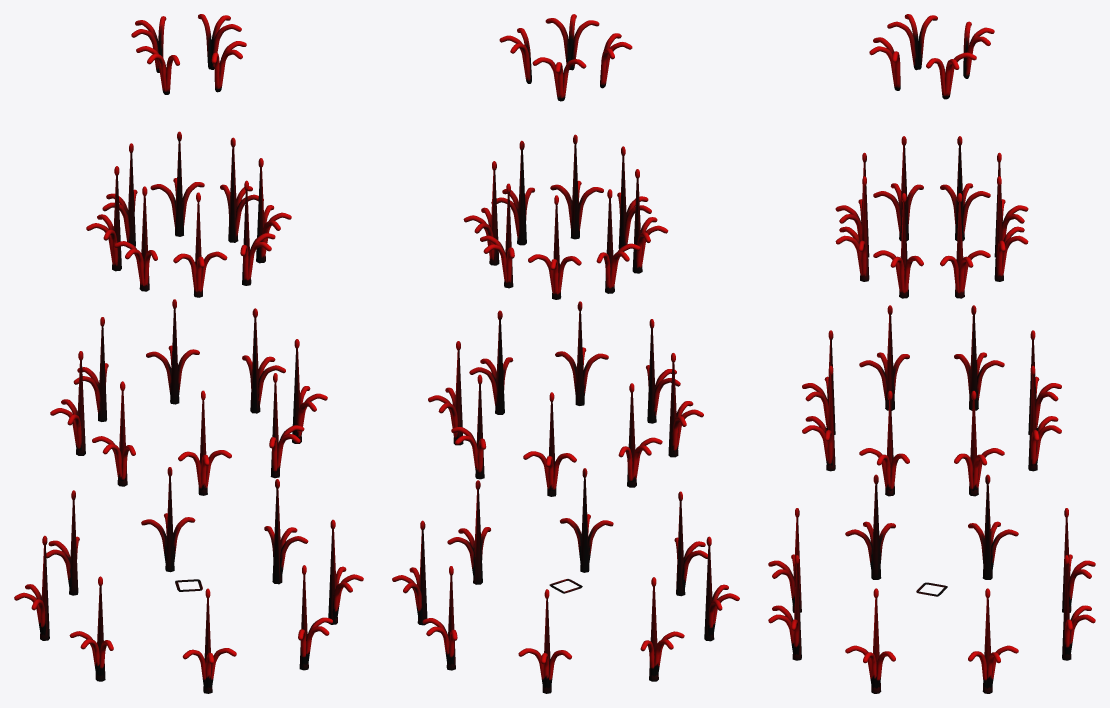
The model's file is TowerOrnaments_export.obj.
3 views of the same model, side by side, from view 1: azimuth 30°, elevation 25°; view 2: azimuth 150°, elevation 25°; view 3: azimuth 270°, elevation 25° (orthographic).
Parts seen in each view (by area): view 1: TowerOrnaments; view 2: TowerOrnaments; view 3: TowerOrnaments.
Boxes of the visible parts, x1,y1,x2,y2 form: TowerOrnaments: (14,14,363,693); TowerOrnaments: (392,14,739,693); TowerOrnaments: (768,14,1095,693).
Bounding box in the file's own units: 6.47 × 13.03 × 6.47.
